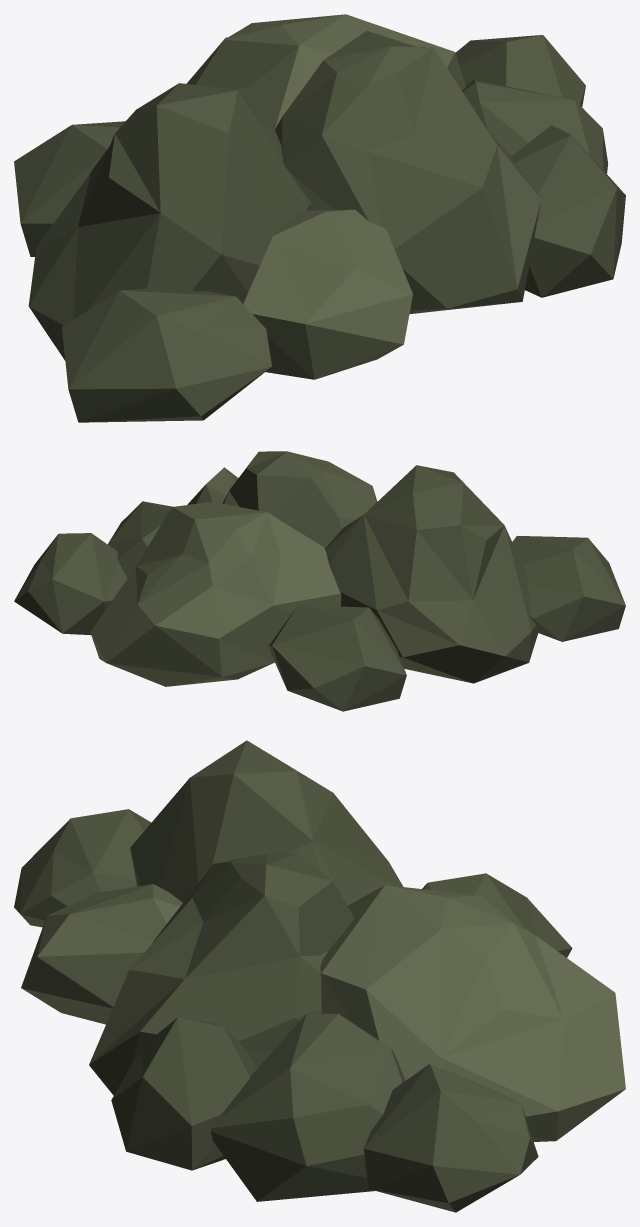
Rendered from bush.glb.
3 renders of one model, top to bottom at view 1: azimuth 30°, elevation 25°; view 2: azimuth 150°, elevation 25°; view 3: azimuth 270°, elevation 25°, orthographic. The views are drawn at different scales.
Parts seen in each view (by area): view 1: SM_Gen_Env_Bush_01; view 2: SM_Gen_Env_Bush_01; view 3: SM_Gen_Env_Bush_01.
Boxes of the visible parts, box(x1,y1,x2,y2) form: SM_Gen_Env_Bush_01: box(14, 14, 625, 422); SM_Gen_Env_Bush_01: box(14, 451, 625, 711); SM_Gen_Env_Bush_01: box(14, 740, 625, 1212).
Bounding box in the file's own units: 3.71 × 1.4 × 2.9.
Materials: 1 (1 with a texture image).
